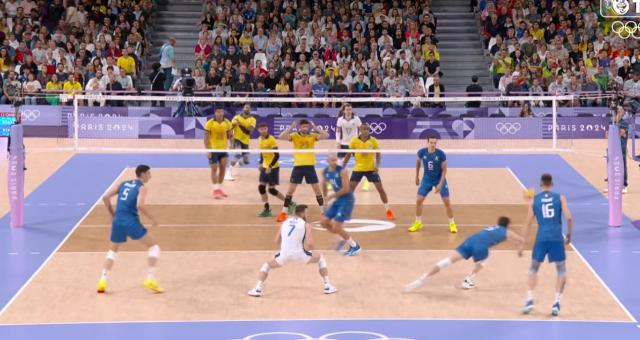Levantador: (414, 137, 448, 227), (256, 123, 280, 205)
Libero: (252, 205, 330, 297), (335, 104, 359, 144)
bola: (522, 188, 534, 202)
